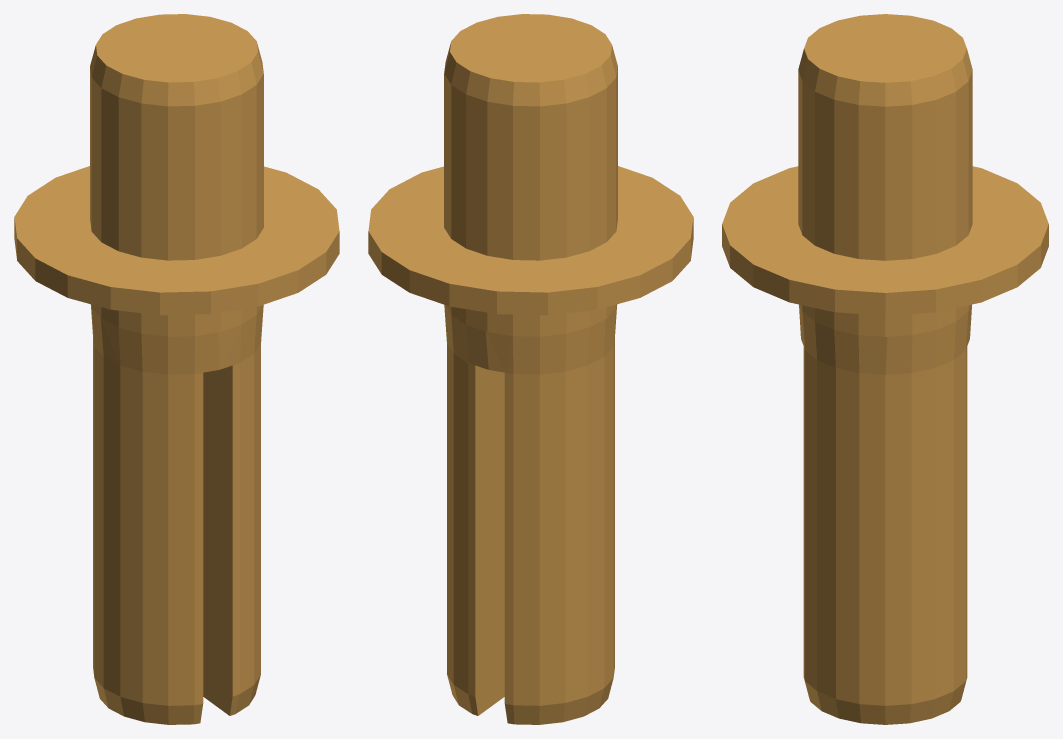
File: reel_right.glb
3 views of the same model, side by side, from view 1: azimuth 30°, elevation 25°; view 2: azimuth 150°, elevation 25°; view 3: azimuth 270°, elevation 25° (orthographic).
Visible parts, largest first — view 1: Mesh_Mesh_head_geo.001_lambert2SG.001; view 2: Mesh_Mesh_head_geo.001_lambert2SG.001; view 3: Mesh_Mesh_head_geo.001_lambert2SG.001.
Part boxes in pixels (left/top/right/bottom): Mesh_Mesh_head_geo.001_lambert2SG.001: left=14, top=14, right=339, bottom=724; Mesh_Mesh_head_geo.001_lambert2SG.001: left=368, top=14, right=693, bottom=724; Mesh_Mesh_head_geo.001_lambert2SG.001: left=722, top=14, right=1048, bottom=724.
Bounding box in the file's own units: 0.0145 × 0.0315 × 0.0145.
